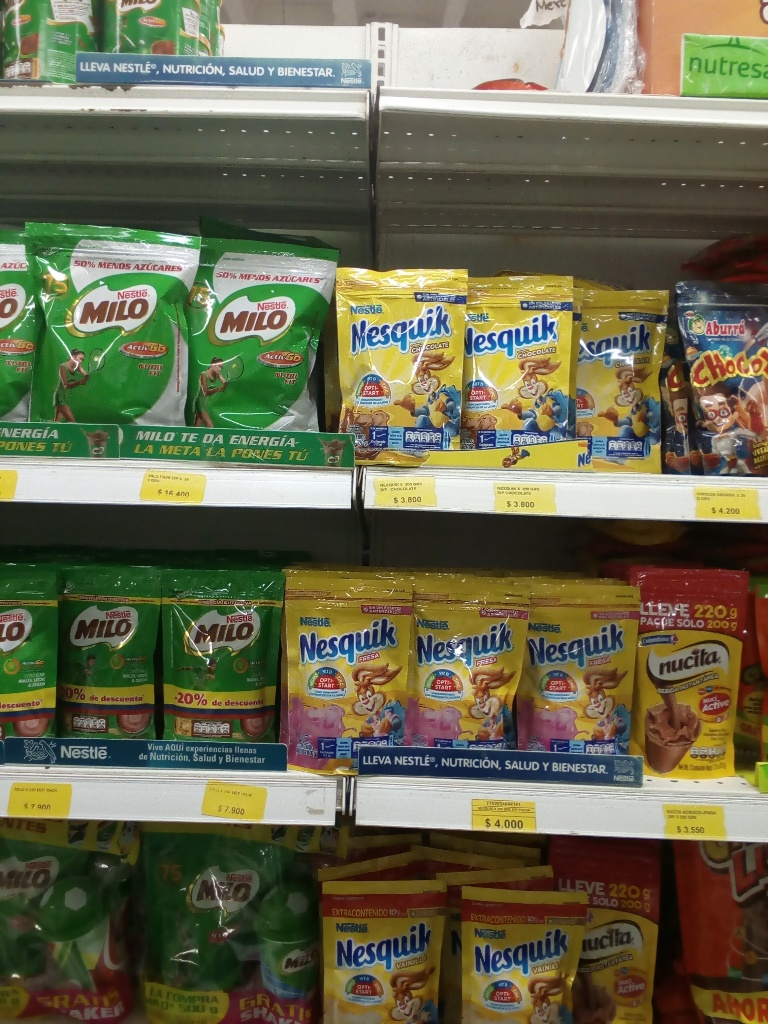COL0170203DYP25000: (61, 569, 159, 735)
COL0170203DYP50000: (135, 845, 266, 992)
COL0170205DYP50000: (25, 225, 200, 435)
COL0170303DYP20000: (337, 272, 461, 457)
COL0170305DYP20000: (286, 571, 411, 775)
